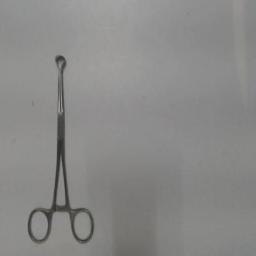Babcock Tissue Forceps: (26, 51, 96, 247)
